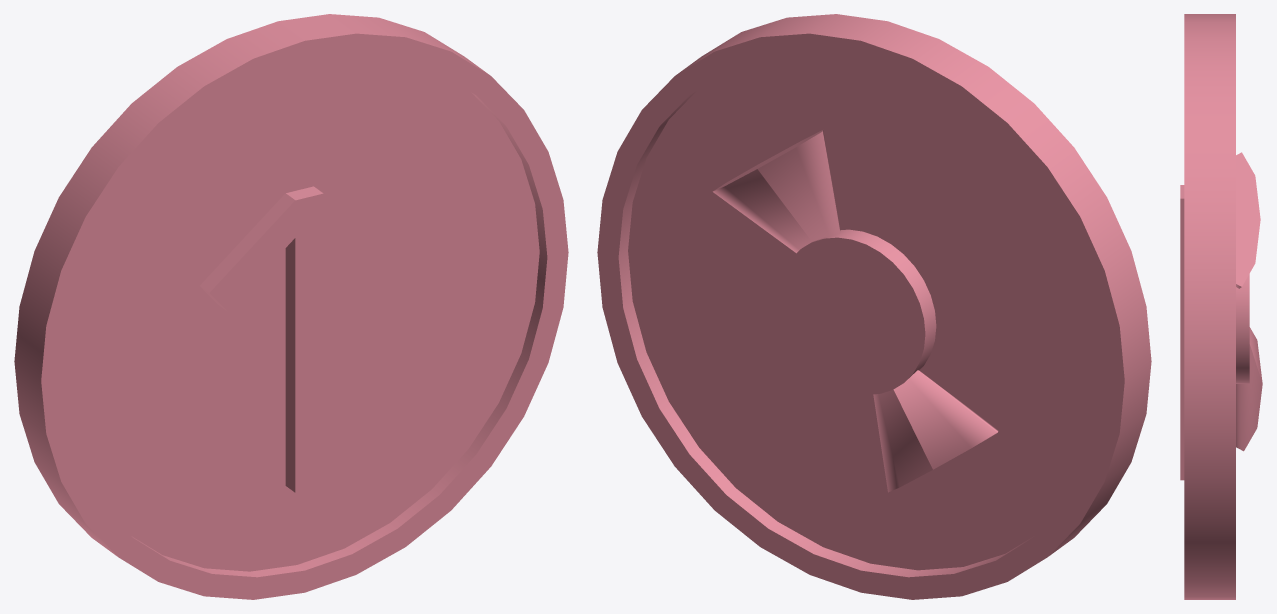
The model's file is Moeda Doce.fbx.
The picture shows the model from 3 angles, left to right: view 1: azimuth 30°, elevation 25°; view 2: azimuth 150°, elevation 25°; view 3: azimuth 270°, elevation 25°; orthographic projection. The views are drawn at different scales.
Parts seen in each view (by area): view 1: Cylinder; view 2: Cylinder; view 3: Cylinder.
Part boxes in pixels (x1,y1,x2,y2): Cylinder: [14, 14, 568, 599]; Cylinder: [597, 14, 1151, 599]; Cylinder: [1180, 14, 1262, 599].
Size of the model in its own units: 200 by 200 by 28.1.
